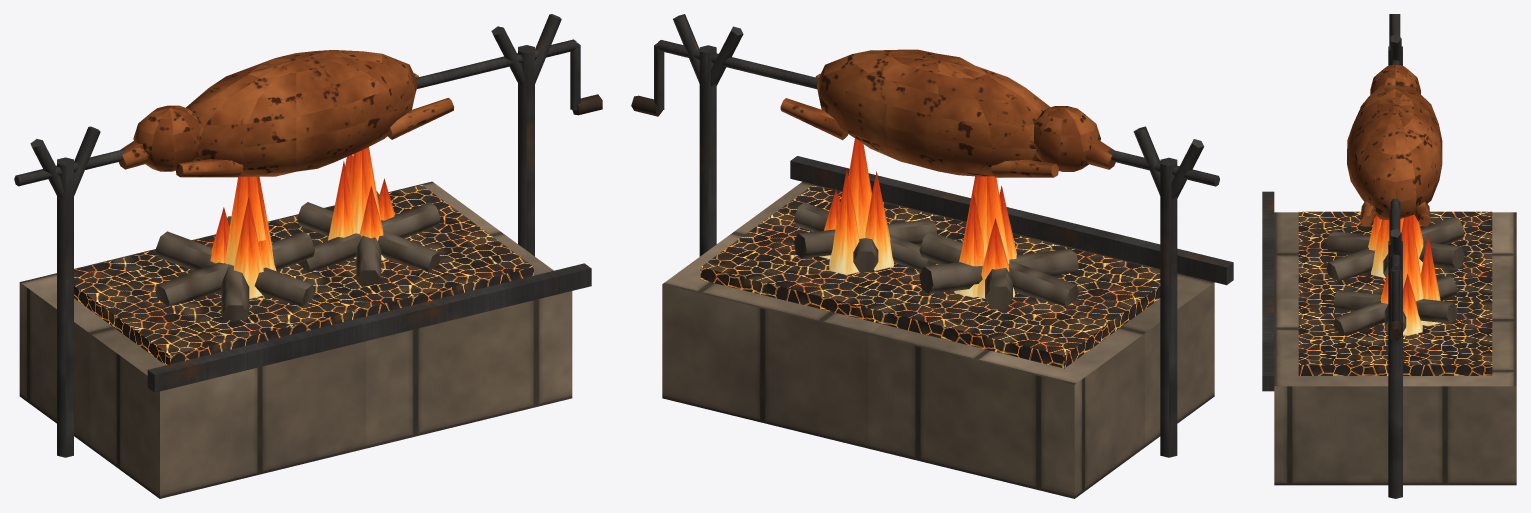
Rendered from spit_roast.gltf.
3 renders of one model, left to right at view 1: azimuth 30°, elevation 25°; view 2: azimuth 150°, elevation 25°; view 3: azimuth 270°, elevation 25°, orthographic. The views are drawn at different scales.
Parts seen in each view (by area): view 1: spit_roast_mesh, ANIM_spit; view 2: spit_roast_mesh, ANIM_spit; view 3: spit_roast_mesh, ANIM_spit.
Part boxes in pixels (left/top/right/bottom): spit_roast_mesh: left=19, top=14, right=591, bottom=498; ANIM_spit: left=14, top=39, right=602, bottom=186; spit_roast_mesh: left=662, top=14, right=1233, bottom=498; ANIM_spit: left=631, top=40, right=1219, bottom=186; spit_roast_mesh: left=1262, top=14, right=1516, bottom=498; ANIM_spit: left=1347, top=60, right=1442, bottom=341.
Size of what is drawn, in the model's own units: 2.4 by 1.33 by 1.05.
Materials: 7 (7 with a texture image).
